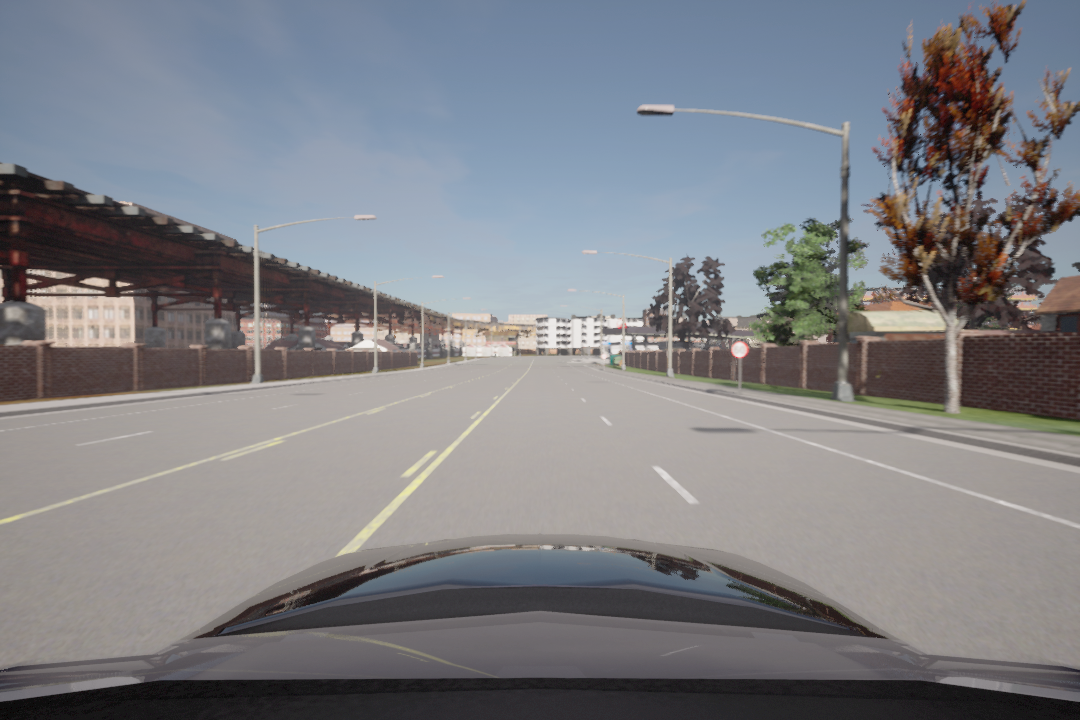TrafficSign_speed: (728, 341, 751, 358)
